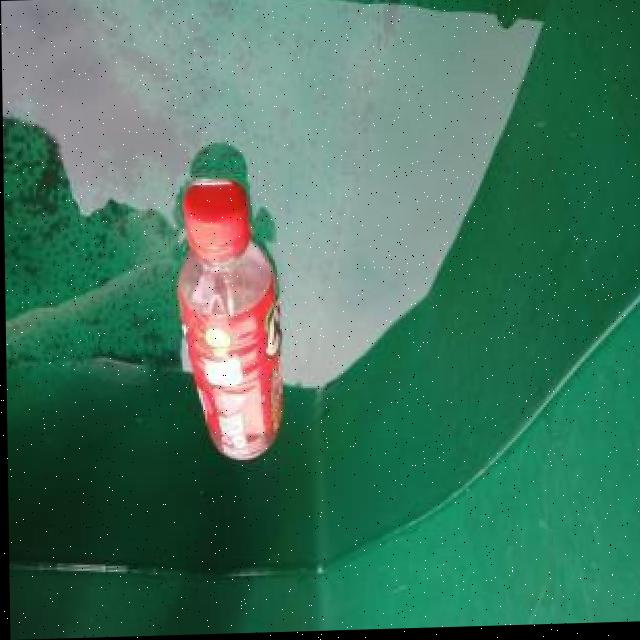bottle: (174, 174, 281, 464)
